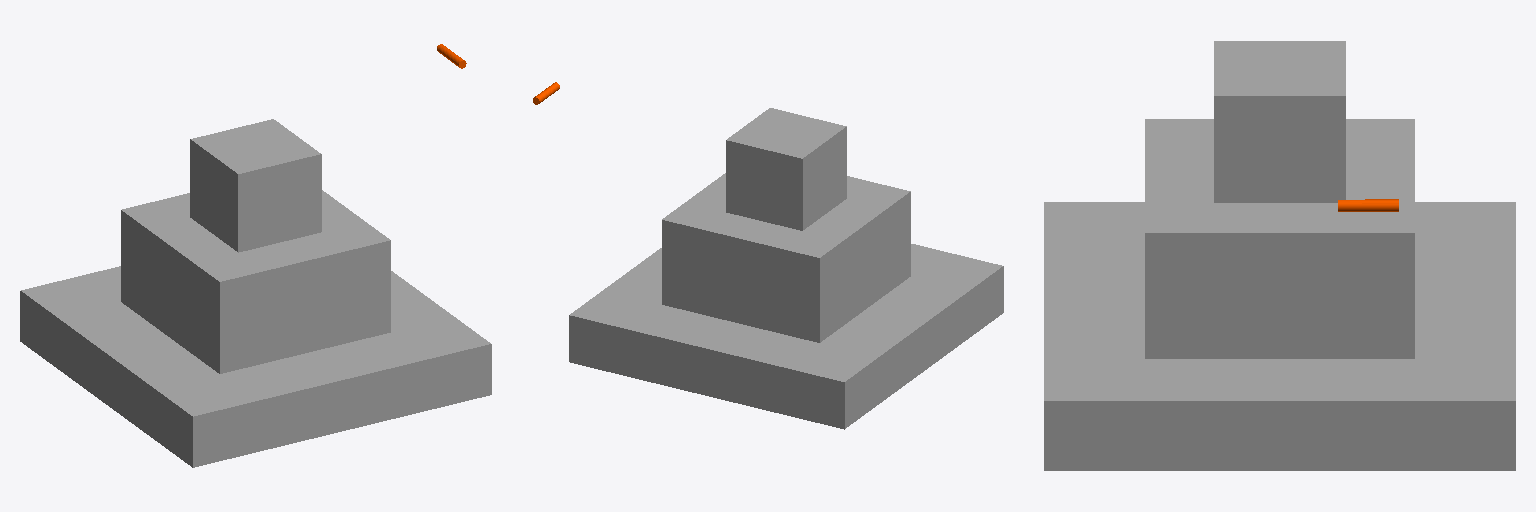
The robot description file, URDF, robot "crs":
<?xml version="1.0" encoding="utf-8" ?>
<robot name="crs" xmlns:xacro="http://ros.org/wiki/xacro">
    <link name="base_link">
        <visual>
            <origin rpy="0 0 3.14159265359" xyz="0 0 0" />
            <geometry>
                <mesh filename="package://crs_support/meshes/ur10e/visual/base.dae" />
            </geometry>
            <material name="LightGrey">
                <color rgba="0.7 0.7 0.7 1.0" />
            </material>
        </visual>
        <collision>
            <origin rpy="0 0 3.14159265359" xyz="0 0 0" />
            <geometry>
                <mesh filename="package://crs_support/meshes/ur10e/collision/base.stl" />
            </geometry>
        </collision>

        <inertial>
            <mass value="4.0" />
            <origin rpy="0 0 0" xyz="0.0 0.0 0.0" />
            <inertia ixx="0.0061063308908" ixy="0.0" ixz="0.0" iyy="0.0061063308908" iyz="0.0" izz="0.01125" />
        </inertial>

    </link>
    <joint name="shoulder_pan_joint" type="revolute">
        <parent link="base_link" />
        <child link="shoulder_link" />
        <origin rpy="0 0 3.14159249728" xyz="0 0 0.180920744391" />
        <axis xyz="0 0 1" />
        <limit effort="330.0" lower="-6.28318530718" upper="6.28318530718" velocity="3.14" />
        <dynamics damping="0.0" friction="0.0" />
    </joint>
    <link name="shoulder_link">
        <visual>
            <origin rpy="0 0 3.14159265359" xyz="0 0 0" />
            <geometry>
                <mesh filename="package://crs_support/meshes/ur10e/visual/shoulder.dae" />
            </geometry>
            <material name="LightGrey">
                <color rgba="0.7 0.7 0.7 1.0" />
            </material>
        </visual>
        <collision>
            <origin rpy="0 0 3.14159265359" xyz="0 0 0" />
            <geometry>
                <mesh filename="package://crs_support/meshes/ur10e/collision/shoulder.stl" />
            </geometry>
        </collision>

        <inertial>
            <mass value="7.778" />
            <origin rpy="0 0 0" xyz="0.0 0.0 0.0" />
            <inertia ixx="0.0314743125769" ixy="0.0" ixz="0.0" iyy="0.0314743125769" iyz="0.0" izz="0.021875625" />
        </inertial>

    </link>
    <joint name="shoulder_lift_joint" type="revolute">
        <parent link="shoulder_link" />
        <child link="upper_arm_link" />
        <origin rpy="1.57065145242 0 -2.70337965131e-06" xyz="0.00013292041689 0 0" />
        <axis xyz="0 0 1" />
        <limit effort="330.0" lower="-6.28318530718" upper="6.28318530718" velocity="3.14" />
        <dynamics damping="0.0" friction="0.0" />
    </joint>
    <link name="upper_arm_link">
        <visual>
            <origin rpy="1.57079632679 0 -1.57079632679" xyz="0 0 0.1762" />
            <geometry>
                <mesh filename="package://crs_support/meshes/ur10e/visual/upperarm.dae" />
            </geometry>
            <material name="LightGrey">
                <color rgba="0.7 0.7 0.7 1.0" />
            </material>
        </visual>
        <collision>
            <origin rpy="1.57079632679 0 -1.57079632679" xyz="0 0 0.1762" />
            <geometry>
                <mesh filename="package://crs_support/meshes/ur10e/collision/upper_arm_multibody.dae" />
            </geometry>
        </collision>

        <inertial>
            <mass value="12.93" />
            <origin rpy="0 1.57079632679 0" xyz="-0.3059856723 0.0 0.175" />
            <inertia ixx="0.421716012238" ixy="0.0" ixz="0.0" iyy="0.421716012238" iyz="0.0" izz="0.036365625" />
        </inertial>

    </link>
    <joint name="elbow_joint" type="revolute">
        <parent link="upper_arm_link" />
        <child link="forearm_link" />
        <origin rpy="3.14047492209 3.14117521433 3.14159104748" xyz="-0.611971344601 0 0" />
        <axis xyz="0 0 1" />
        <limit effort="150.0" lower="-2.6" upper="3.141592653589793" velocity="3.14" />
        <dynamics damping="0.0" friction="0.0" />
    </joint>
    <link name="forearm_link">
        <visual>
            <origin rpy="1.57079632679 0 -1.57079632679" xyz="0 0 0.0393" />
            <geometry>
                <mesh filename="package://crs_support/meshes/ur10e/visual/forearm.dae" />
            </geometry>
            <material name="LightGrey">
                <color rgba="0.7 0.7 0.7 1.0" />
            </material>
        </visual>
        <collision>
            <origin rpy="1.57079632679 0 -1.57079632679" xyz="0 0 0.0393" />
            <geometry>
                <mesh filename="package://crs_support/meshes/ur10e/collision/forearm_multibody.dae" />
            </geometry>
        </collision>

        <inertial>
            <mass value="3.87" />
            <origin rpy="0 1.57079632679 0" xyz="-0.3059856723 0.0 0.0393" />
            <inertia ixx="0.110614284666" ixy="0.0" ixz="0.0" iyy="0.110614284666" iyz="0.0" izz="0.010884375" />
        </inertial>

    </link>
    <joint name="wrist_1_joint" type="revolute">
        <parent link="forearm_link" />
        <child link="wrist_1_link" />
        <origin rpy="3.13872123266 -3.14053617519 3.14158723656" xyz="-0.571064941288 0.000500820247035 0.174414995927" />
        <axis xyz="0 0 1" />
        <limit effort="54.0" lower="-6.28318530718" upper="6.28318530718" velocity="6.28" />
        <dynamics damping="0.0" friction="0.0" />
    </joint>
    <link name="wrist_1_link">
        <visual>
            <origin rpy="1.57079632679 0 0" xyz="0 0 -0.135" />
            <geometry>
                <mesh filename="package://crs_support/meshes/ur10e/visual/wrist1.dae" />
            </geometry>
            <material name="LightGrey">
                <color rgba="0.7 0.7 0.7 1.0" />
            </material>
        </visual>
        <collision>
            <origin rpy="1.57079632679 0 0" xyz="0 0 -0.135" />
            <geometry>
                <mesh filename="package://crs_support/meshes/ur10e/collision/wrist1.stl" />
            </geometry>
        </collision>

        <inertial>
            <mass value="1.96" />
            <origin rpy="0 0 0" xyz="0.0 0.0 0.0" />
            <inertia ixx="0.00510211926321" ixy="0.0" ixz="0.0" iyy="0.00510211926321" iyz="0.0" izz="0.0055125" />
        </inertial>

    </link>
    <joint name="wrist_2_joint" type="revolute">
        <parent link="wrist_1_link" />
        <child link="wrist_2_link" />
        <origin rpy="1.57117550062 0 -9.13444434245e-07" xyz="5.96404309737e-05 -0.119843553735 -4.54415414531e-05" />
        <axis xyz="0 0 1" />
        <limit effort="54.0" lower="-6.28318530718" upper="6.28318530718" velocity="6.28" />
        <dynamics damping="0.0" friction="0.0" />
    </joint>
    <link name="wrist_2_link">
        <visual>
            <origin rpy="0 0 0" xyz="0 0 -0.12" />
            <geometry>
                <mesh filename="package://crs_support/meshes/ur10e/visual/wrist2.dae" />
            </geometry>
            <material name="LightGrey">
                <color rgba="0.7 0.7 0.7 1.0" />
            </material>
        </visual>
        <collision>
            <origin rpy="0 0 0" xyz="0 0 -0.12" />
            <geometry>
                <mesh filename="package://crs_support/meshes/ur10e/collision/wrist2.stl" />
            </geometry>
        </collision>

        <inertial>
            <mass value="1.96" />
            <origin rpy="0 0 0" xyz="0.0 0.0 0.0" />
            <inertia ixx="0.00493642595291" ixy="0.0" ixz="0.0" iyy="0.00493642595291" iyz="0.0" izz="0.0055125" />
        </inertial>

    </link>
    <joint name="wrist_3_joint" type="revolute">
        <parent link="wrist_2_link" />
        <child link="wrist_3_link" />
        <origin rpy="1.57170379674 3.14159265359 3.14159254819" xyz="1.57784168351e-05 0.115533666641 0.000104843358957" />
        <axis xyz="0 0 1" />
        <limit effort="54.0" lower="-6.28318530718" upper="6.28318530718" velocity="6.28" />
        <dynamics damping="0.0" friction="0.0" />
    </joint>
    <link name="wrist_3_link">
        <visual>
            <origin rpy="1.57079632679 0 0" xyz="0 0 -0.1168" />
            <geometry>
                <mesh filename="package://crs_support/meshes/ur10e/visual/wrist3.dae" />
            </geometry>
            <material name="LightGrey">
                <color rgba="0.7 0.7 0.7 1.0" />
            </material>
        </visual>
        <collision>
            <origin rpy="1.57079632679 0 0" xyz="0 0 -0.1168" />
            <geometry>
                <mesh filename="package://crs_support/meshes/ur10e/collision/wrist3.stl" />
            </geometry>
        </collision>

        <inertial>
            <mass value="0.202" />
            <origin rpy="0 0 0" xyz="0.0 0.0 -0.025" />
            <inertia ixx="0.000144345775595" ixy="0.0" ixz="0.0" iyy="0.000144345775595" iyz="0.0" izz="0.000204525" />
        </inertial>

    </link>
    <joint name="ee_fixed_joint" type="fixed">
        <parent link="wrist_3_link" />
        <child link="ee_link" />
        <origin rpy="0.0 -1.57079632679 1.57079632679" xyz="0.0 0.0 0.0" />
    </joint>
    <link name="ee_link">
        <collision>
            <geometry>
                <box size="0.01 0.01 0.01" />
            </geometry>
            <origin rpy="0 0 0" xyz="-0.01 0 0" />
        </collision>

        <inertial>
            <mass value="0.1" />
            <inertia ixx="0.03" iyy="0.03" izz="0.03" ixy="0.0" ixz="0.0" iyz="0.0" />
        </inertial>

    </link>
    <link name="base" />
    <joint name="base_link-base_fixed_joint" type="fixed">
        <origin rpy="0 0 0" xyz="0 0 0" />
        <parent link="base" />
        <child link="base_link" />
    </joint>
    <link name="tool0" />
    <joint name="wrist_3_link-tool0_fixed_joint" type="fixed">
        <origin rpy="0 0 0" xyz="0 0 0" />
        <parent link="wrist_3_link" />
        <child link="tool0" />
    </joint>
    <link name="eoat_link">
        <visual>
            <geometry>
                <cylinder length="0.20" radius="0.02" />
            </geometry>
            <material name="Orange">
                <color rgba="1.0 0.4 0.0 1.0" />
            </material>
        </visual>
        <collision>
            <geometry>
                <cylinder length="0.20" radius="0.02" />
            </geometry>
        </collision>

        <inertial>
            <mass value="0.202" />
            <origin rpy="0 0 0" xyz="0.0 0.0 0.0" />
            <inertia ixx="0.000526462289415" ixy="0.0" ixz="0.0" iyy="0.000526462289415" iyz="0.0" izz="0.000568125" />
        </inertial>

    </link>
    <joint name="tool0_to_eoat_link" type="fixed">
        <parent link="tool0" />
        <child link="eoat_link" />
        <origin rpy="0.0 0.0 0.0" xyz="0.0 0.0 0.0" />
    </joint>
    <link name="robot_stand">
        <visual>
            <geometry>
                <box size="0.4318 0.4318 1.1"/>
            </geometry>
            <material name="LightGrey">
                <color rgba="0.7 0.7 0.7 1.0" />
            </material>
            <origin rpy="0 0 0" xyz="0 0 0.55" />
        </visual>
        <visual>
            <geometry>
                <box size="0.889 0.889 0.7112"/>
            </geometry>
            <material name="LightGrey">
                <color rgba="0.7 0.7 0.7 1.0" />
            </material>
            <origin rpy="0 0 0" xyz="0 0 0.3556" />
        </visual>
        <visual>
            <geometry>
                <box size="1.55 1.55 0.254"/>
            </geometry>
            <material name="LightGrey">
                <color rgba="0.7 0.7 0.7 1.0" />
            </material>
            <origin rpy="0 0 0" xyz="0 0 0.127" />
        </visual>
        <collision>
            <geometry>
                <box size="0.4318 0.4318 1.1"/>
            </geometry>
            <material name="LightGrey">
                <color rgba="0.7 0.7 0.7 1.0" />
            </material>
            <origin rpy="0 0 0" xyz="0 0 0.55" />
        </collision>
        <collision>
            <geometry>
                <box size="0.889 0.889 0.7112"/>
            </geometry>
            <material name="LightGrey">
                <color rgba="0.7 0.7 0.7 1.0" />
            </material>
            <origin rpy="0 0 0" xyz="0 0 0.3556" />
        </collision>
        <collision>
            <geometry>
                <box size="1.55 1.55 0.254"/>
            </geometry>
            <material name="LightGrey">
                <color rgba="0.7 0.7 0.7 1.0" />
            </material>
            <origin rpy="0 0 0" xyz="0 0 0.127" />
        </collision>
        <inertial>
            <mass value="0.1" />
            <inertia ixx="0.03" iyy="0.03" izz="0.03" ixy="0.0" ixz="0.0" iyz="0.0" />
        </inertial>

    </link>
    <joint name="robot_base_joint" type="fixed">
        <parent link="robot_stand" />
        <child link="base" />
        <origin rpy="0 0 0" xyz="0 0 1.0922" />
        <limit effort="1.0" lower="-0.1" upper="1.9" velocity=".01" />
    </joint>
    <link name="world" />
    <joint name="robot_stand_joint" type="fixed">
        <parent link="world" />
        <child link="robot_stand" />
        <origin rpy="0 0 0" xyz="0 0 0" />
    </joint>
    <link name="camera_link_optical" />
    <joint name="camera_optical_joint" type="fixed">
        <origin xyz="0 0 0" rpy="-1.571 0 -1.571"/>
        <parent link="wrist_3_link"/>
        <child link="camera_link_optical"/>
    </joint>
</robot>

--- What the picture shows (computed from the rendered views, not written in the file) ---
Views: 3 orthographic renders of the robot side by side, from view 1: azimuth 30°, elevation 25°; view 2: azimuth 150°, elevation 25°; view 3: azimuth 270°, elevation 25°.
Model crs with 14 links and 13 joints (6 revolute, 7 fixed), rooted at world, posed every joint at zero.
Visible links, largest first — view 1: robot_stand; view 2: robot_stand; view 3: robot_stand, eoat_link.
Link boxes in pixels (<box>): robot_stand: <box>20,119,491,467</box>; robot_stand: <box>569,108,1003,429</box>; robot_stand: <box>1044,41,1515,470</box>; eoat_link: <box>1338,199,1398,211</box>.
Size in the robot's own frame: 1.98 by 1.55 by 1.17 metres.
0 mesh visuals loaded from 7 distinct referenced files (none loaded); not drawn: 7 (reference not matched to a file when rendering).